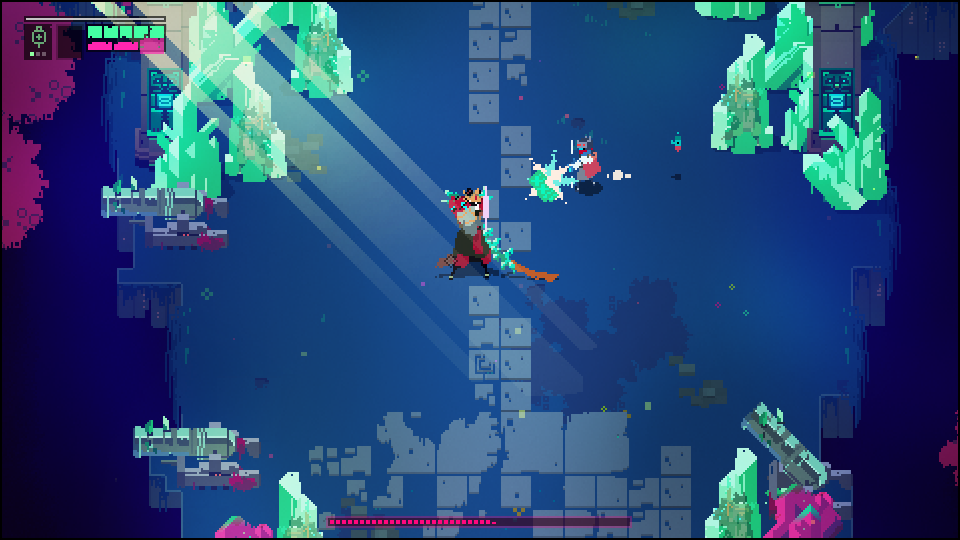hanged_man: (433, 182, 531, 285)
player: (569, 132, 605, 195)
